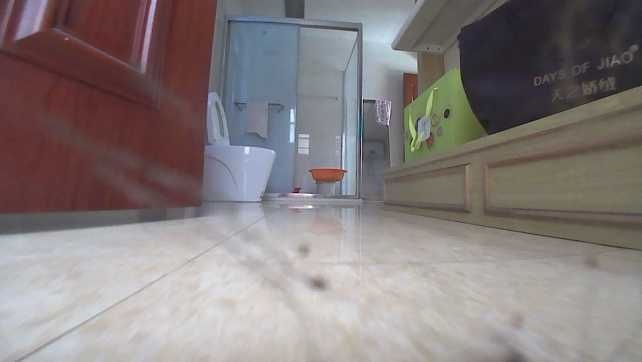toilet: (195, 89, 276, 202)
